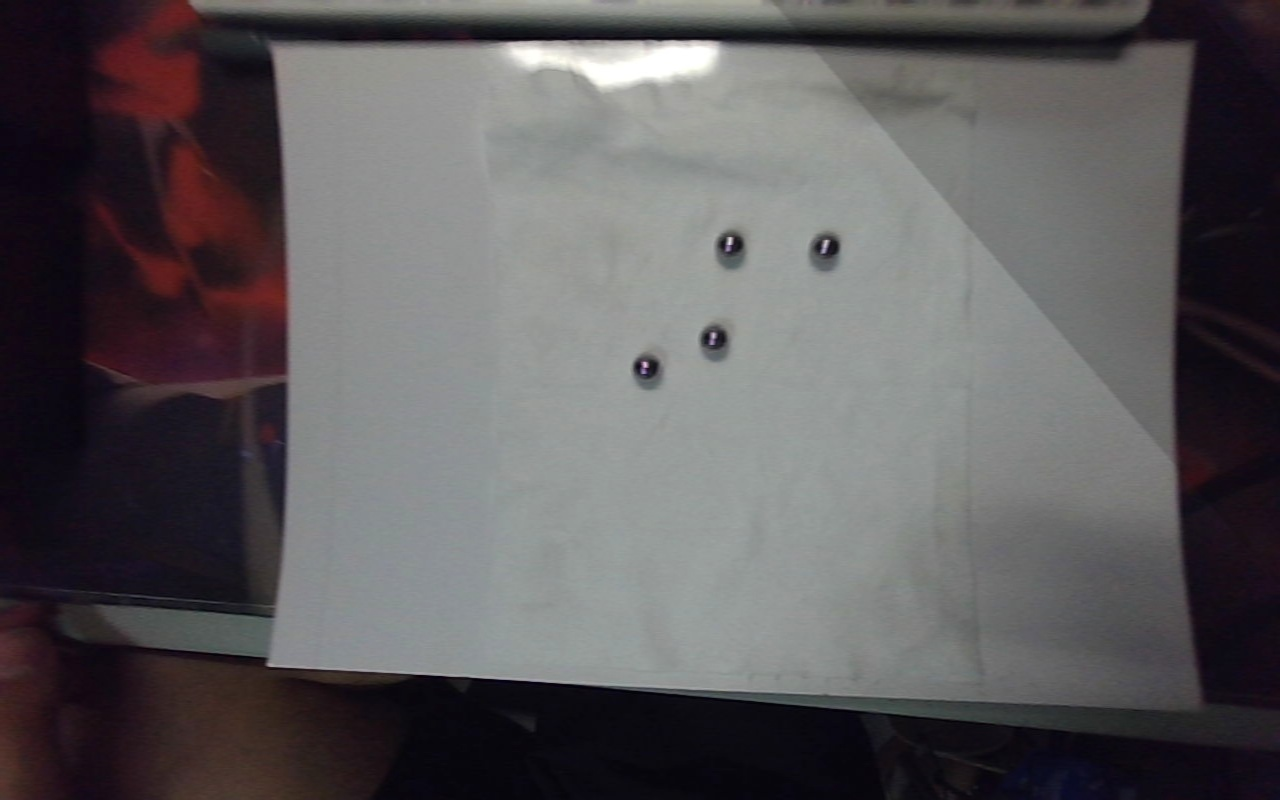ball: (698, 322, 734, 363), (809, 228, 843, 271), (630, 351, 664, 389), (715, 228, 748, 267)
